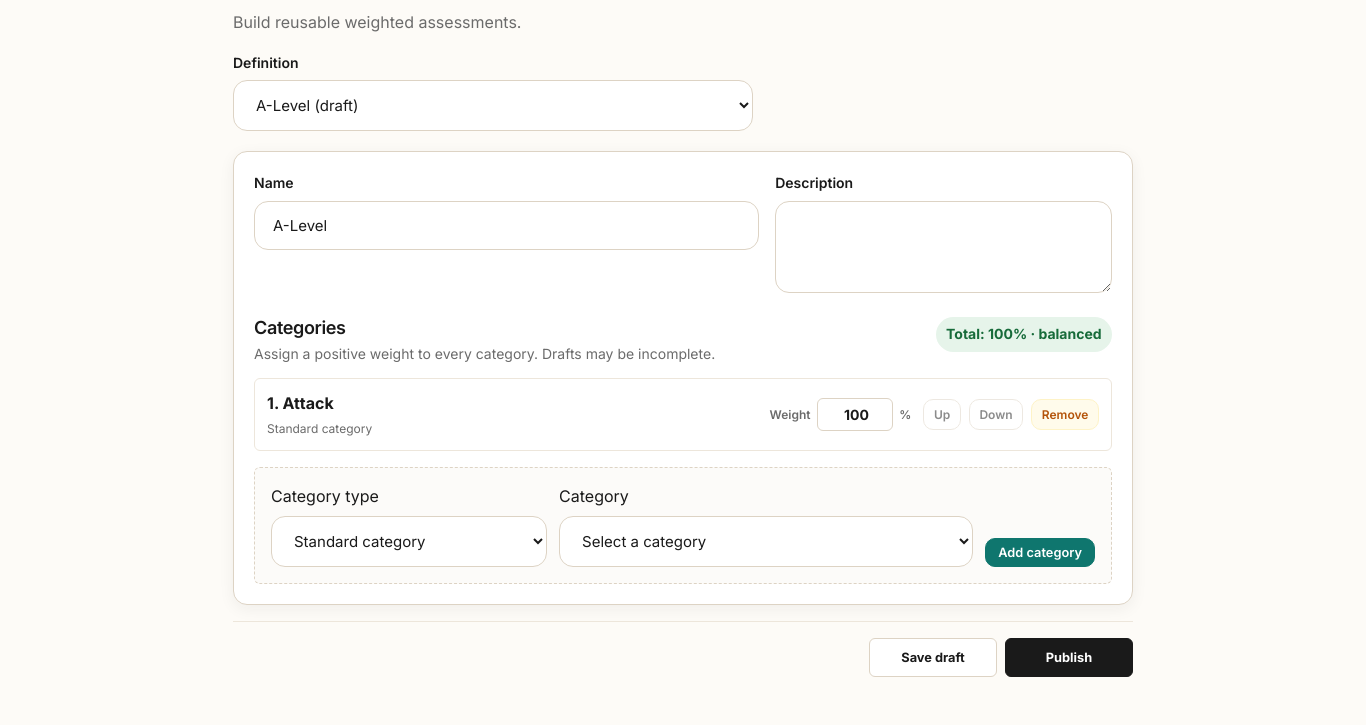
Test: AssessmentDefinitions › confirms a publish in words and turns the button into a published state
(page scrolled)
Click the button "Publish". click: (1069,657)
box: [1005,638,1133,677]
(page scrolled)
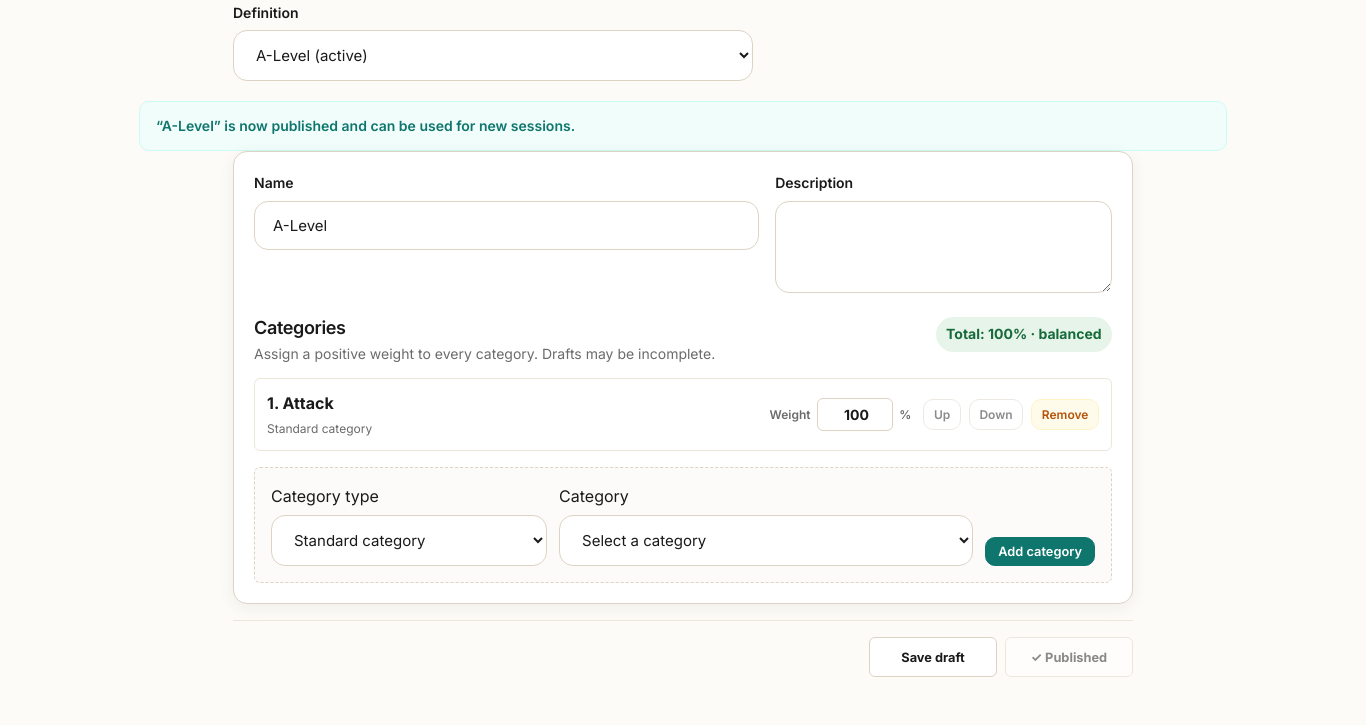
Result: the message reads "“A-Level” is now published and can be used for new sessions." at [156,117,575,134]
Result: the button "✓ Published" is disabled at [1005,637,1133,677]
